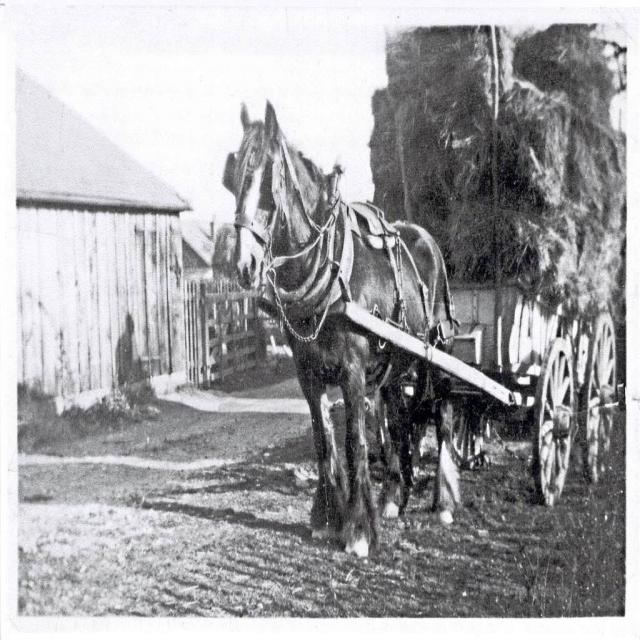Horse: (222, 98, 460, 560)
